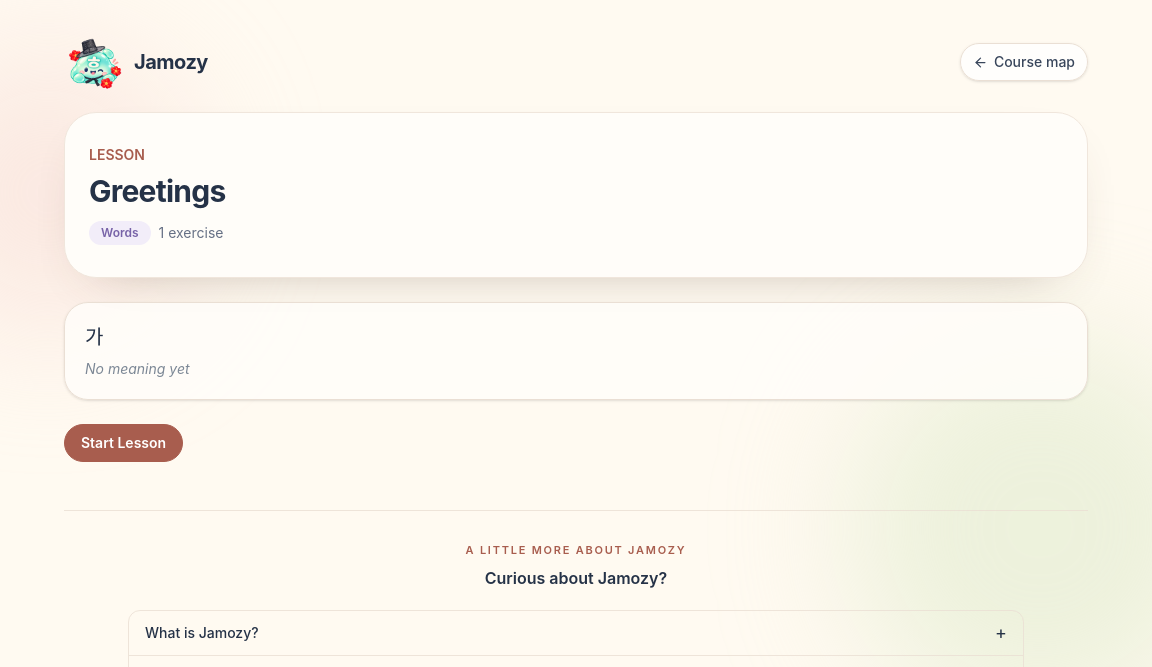
Test: LessonDetailPage › shows a Start Lesson button, then switches to the typing session on click
The width and height of the screenshot is (1152, 667).
Click the button "Start Lesson". click: [124, 443]
box: [64, 424, 183, 462]
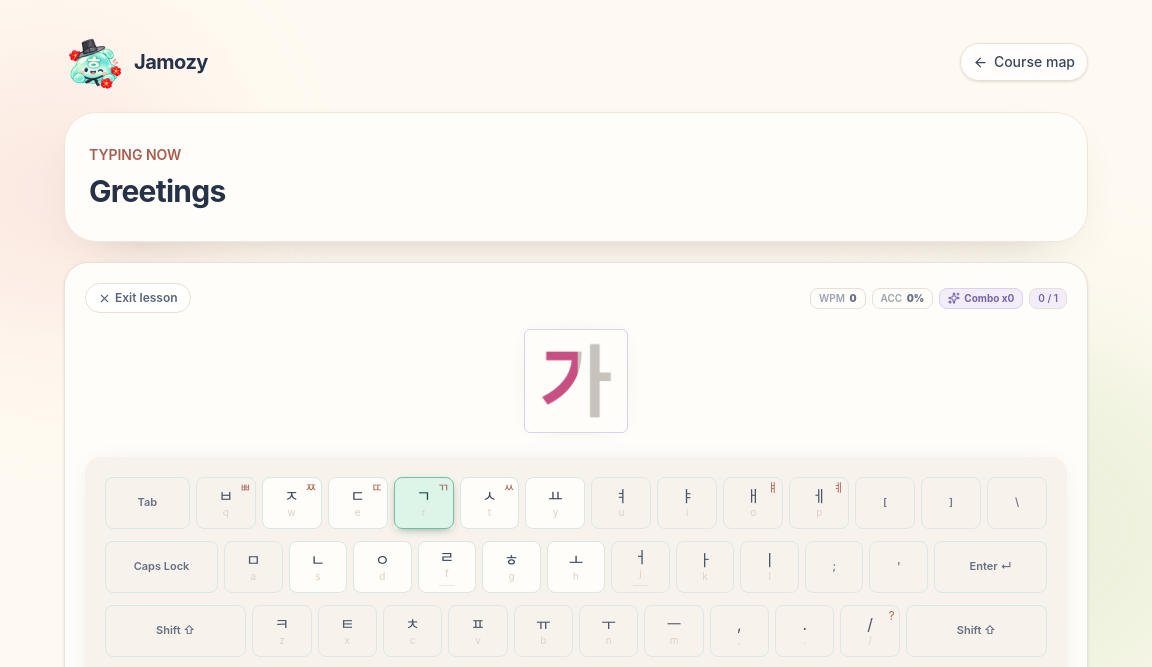
Check: the picture named "가" is shown, box [524, 329, 628, 433]
